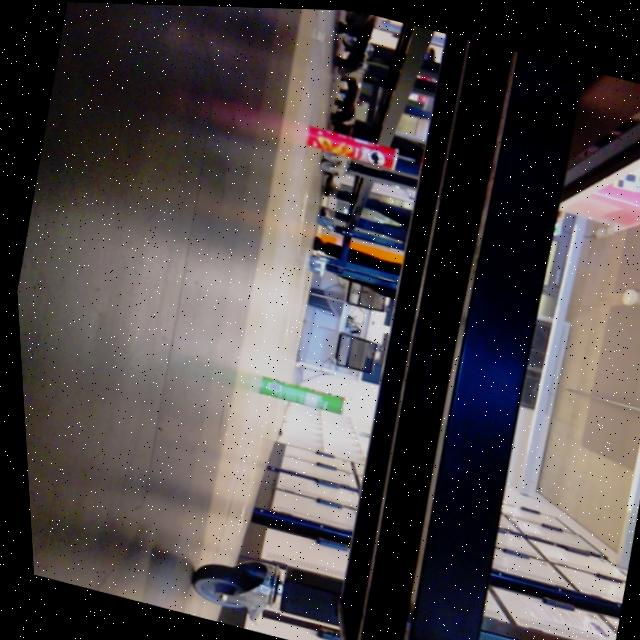greenpringles: (239, 361, 353, 422)
redpringles: (286, 111, 421, 181)
